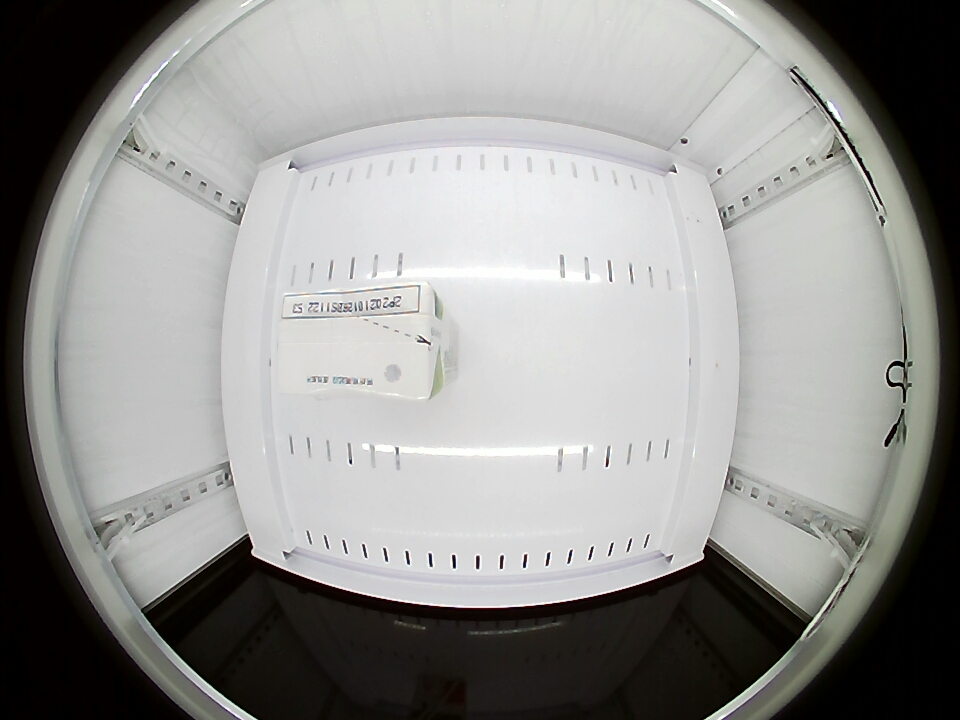mengniu: (277, 283, 446, 402)
